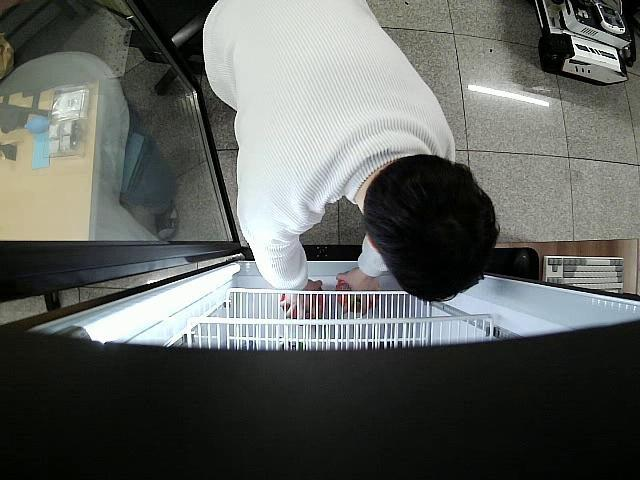01_ShinRamen_L: (280, 286, 324, 323), (336, 282, 363, 315)
